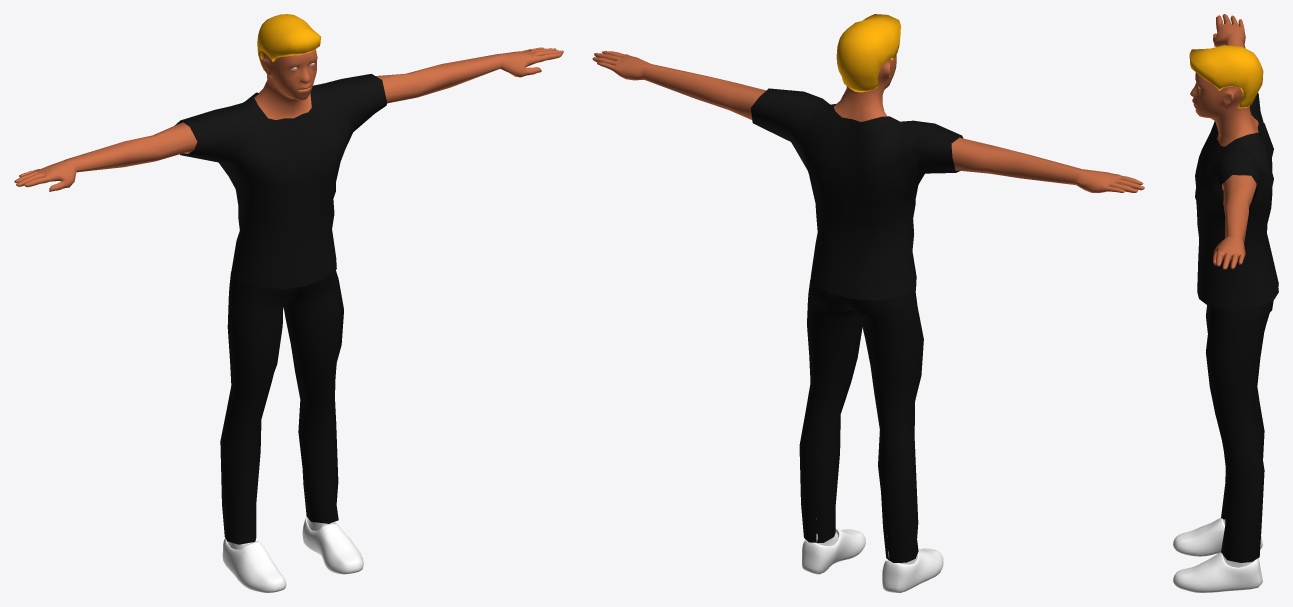
Rendered from Man 12.obj.
3 renders of one model, left to right at view 1: azimuth 30°, elevation 25°; view 2: azimuth 150°, elevation 25°; view 3: azimuth 270°, elevation 25°, orthographic. The views are drawn at different scales.
Visible parts, largest first — view 1: Human:Male1591.001, Human:Male1591.002, Human:Male1591, Human:Shoes05, Human:Male1591.003_Human:Male1591.005; view 2: Human:Male1591.001, Human:Male1591.002, Human:Male1591, Human:Shoes05, Human:Male1591.003_Human:Male1591.005; view 3: Human:Male1591.002, Human:Male1591.001, Human:Male1591, Human:Shoes05, Human:Male1591.003_Human:Male1591.005.
Part boxes in pixels (left/top/right/bottom): Human:Male1591.001: left=174, top=74, right=387, bottom=288; Human:Male1591.002: left=220, top=270, right=343, bottom=544; Human:Male1591: left=14, top=47, right=563, bottom=191; Human:Shoes05: left=222, top=517, right=363, bottom=592; Human:Male1591.003_Human:Male1591.005: left=257, top=14, right=321, bottom=73; Human:Male1591.001: left=750, top=88, right=963, bottom=300; Human:Male1591.002: left=799, top=278, right=923, bottom=562; Human:Male1591: left=592, top=51, right=1144, bottom=193; Human:Shoes05: left=802, top=518, right=943, bottom=592; Human:Male1591.003_Human:Male1591.005: left=836, top=14, right=900, bottom=92; Human:Male1591.002: left=1206, top=301, right=1273, bottom=562; Human:Male1591.001: left=1195, top=93, right=1278, bottom=311; Human:Male1591: left=1190, top=14, right=1258, bottom=269; Human:Shoes05: left=1173, top=518, right=1262, bottom=592; Human:Male1591.003_Human:Male1591.005: left=1189, top=45, right=1263, bottom=108.
Bounding box in the file's own units: 19.93 × 19.06 × 3.51.
